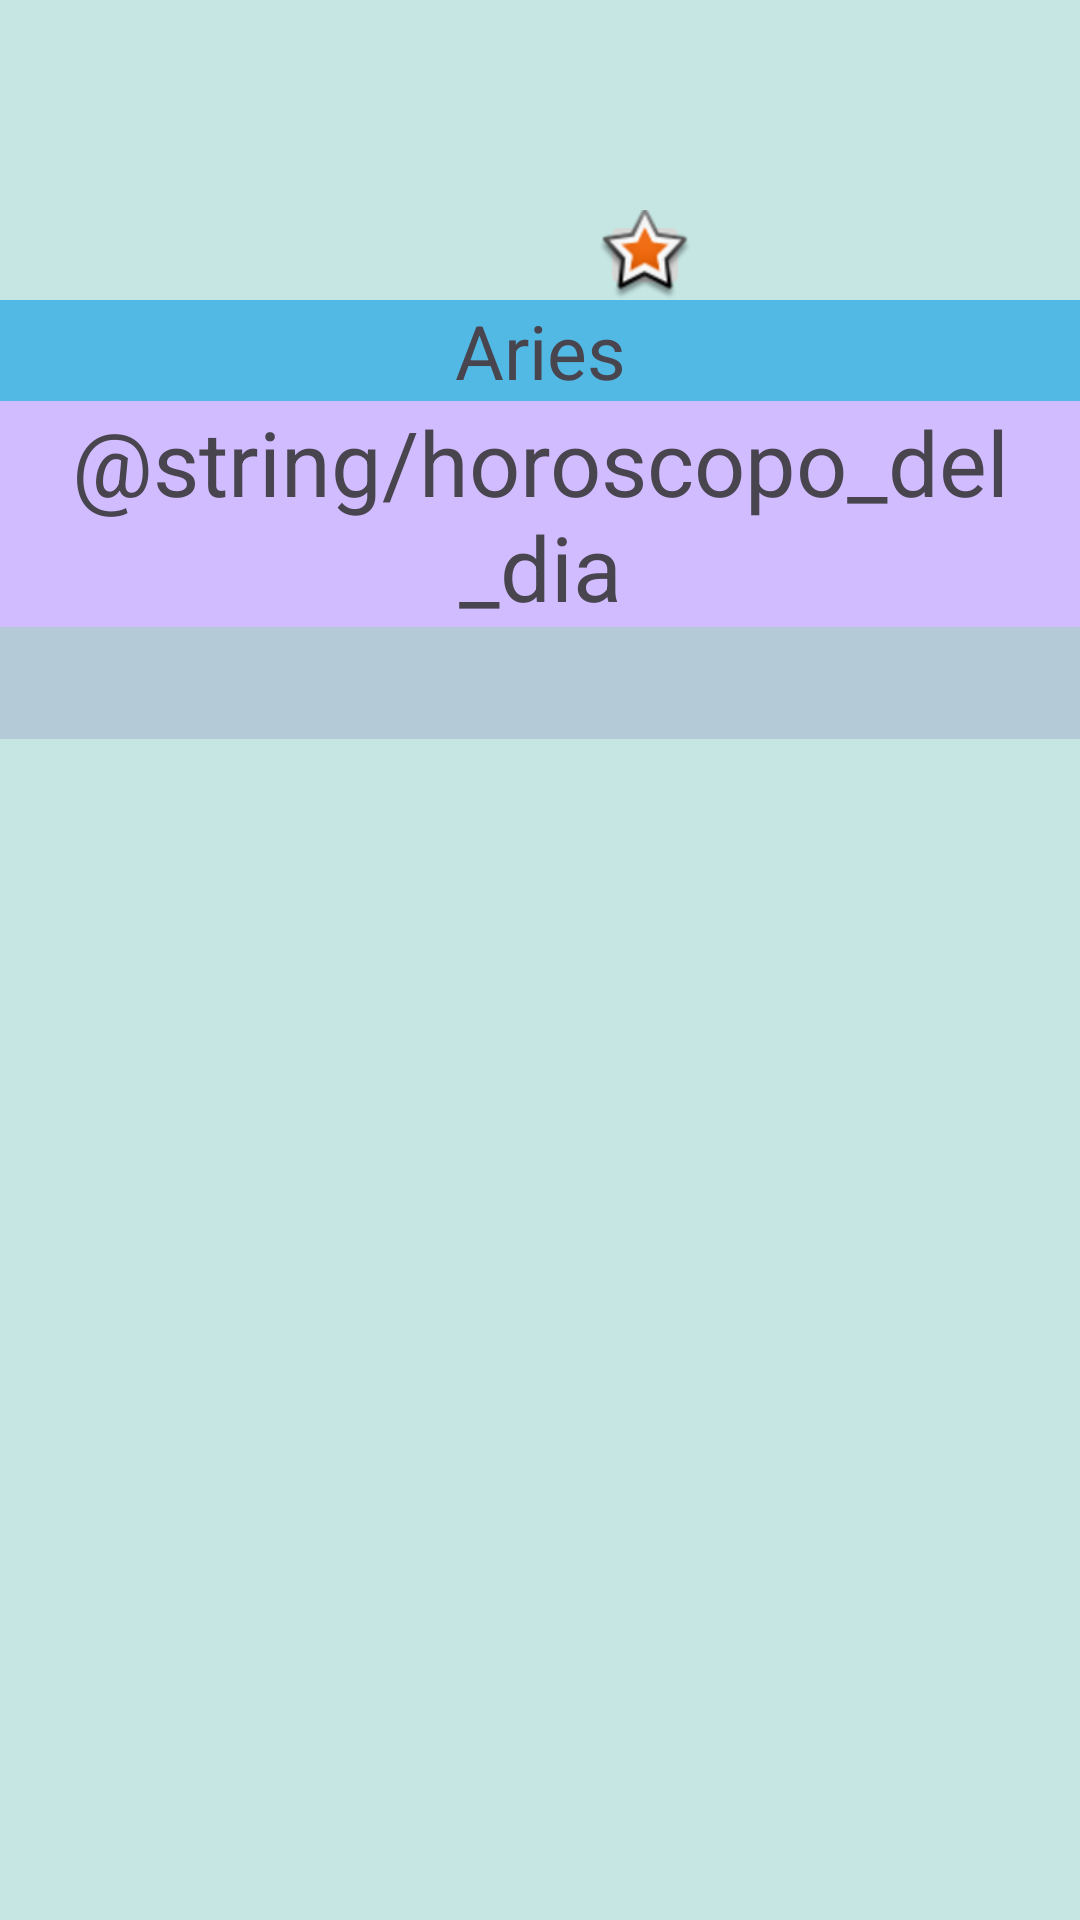

Named icons in this screenshot (1080x1920) and their bounding boxes, box(x1, y1, x2, y2):
star on: box(602, 210, 687, 295)
